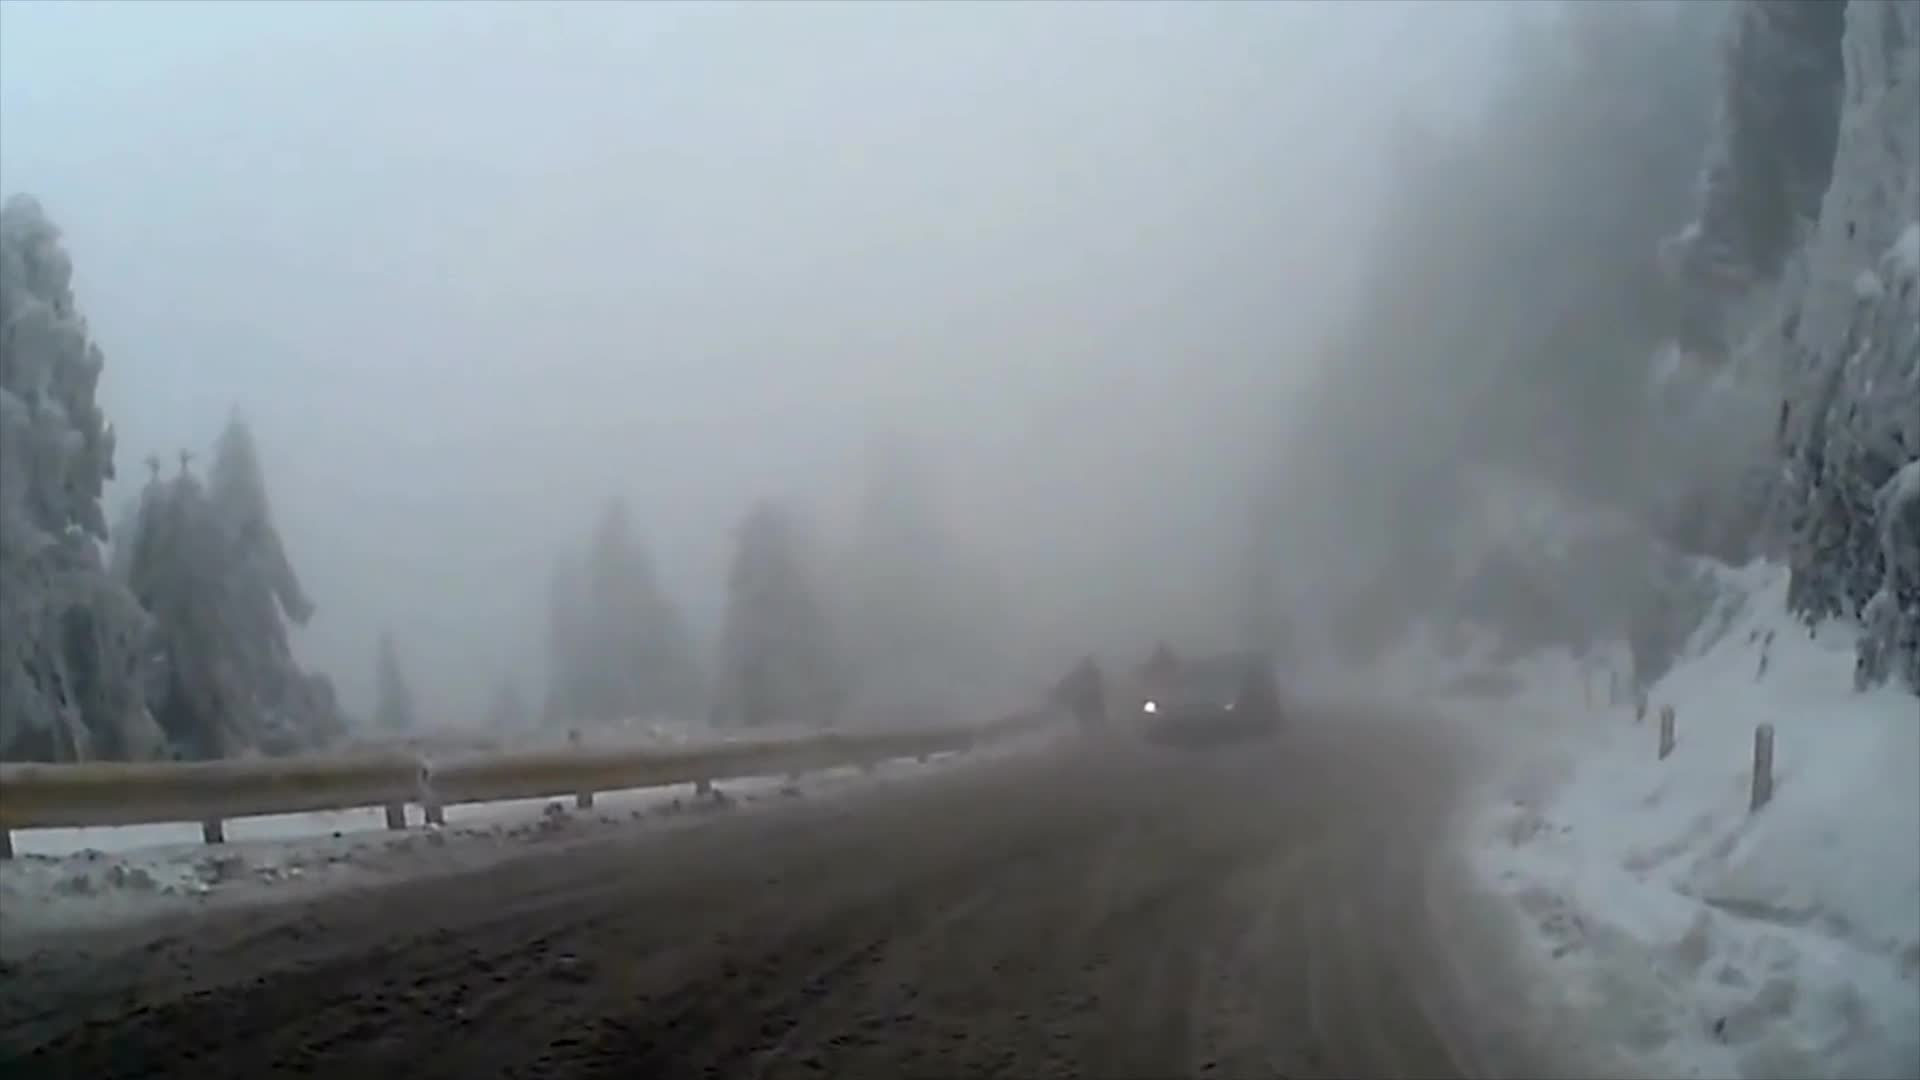vehicle: (1133, 651, 1280, 746)
